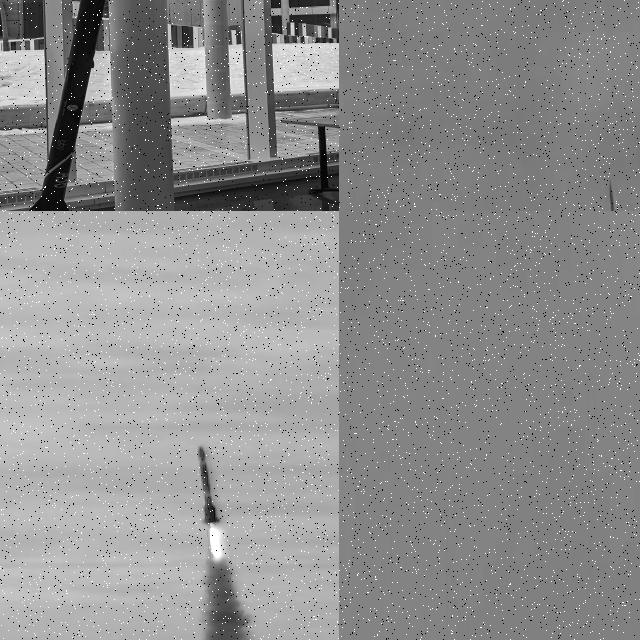Rocket: (28, 0, 106, 211), (198, 446, 221, 526), (607, 179, 625, 211)
